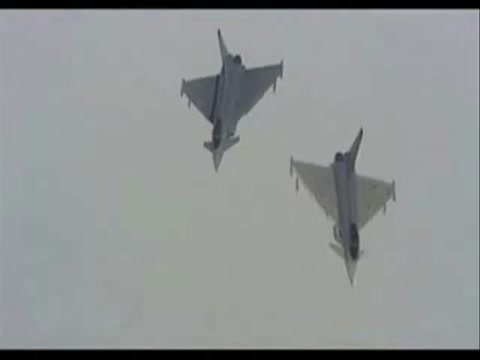aeroplane: (177, 27, 287, 175)
